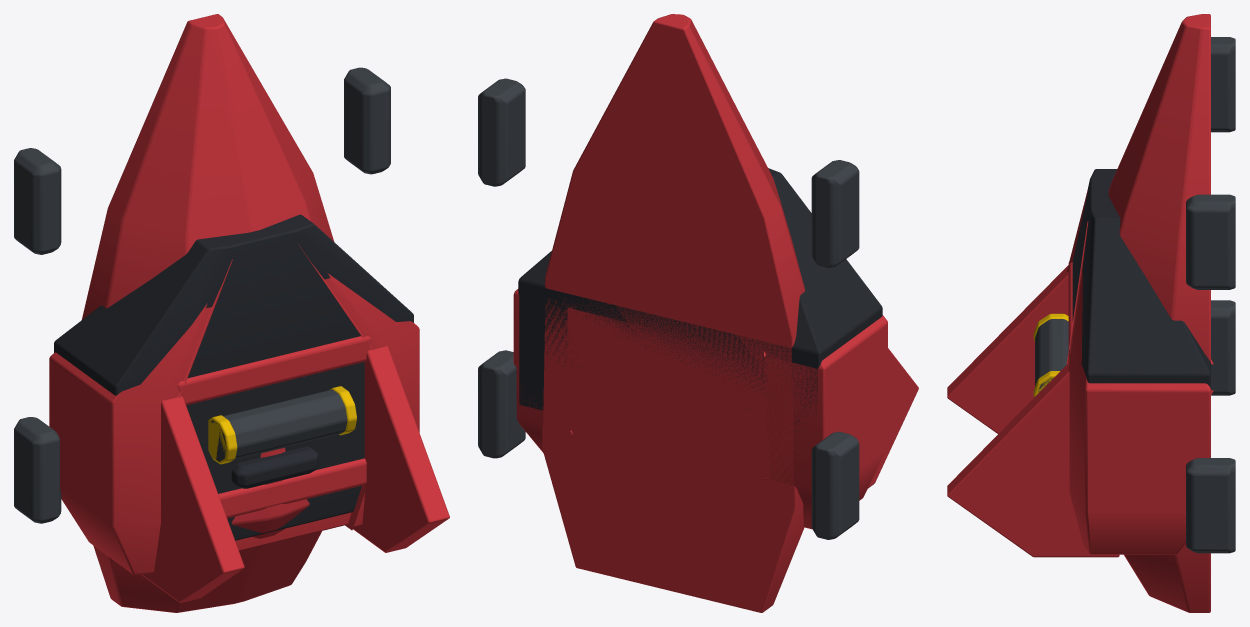
Rendered from CalfBack_Set02_Bastion.fbx.
The picture shows the model from 3 angles, left to right: view 1: azimuth 30°, elevation 25°; view 2: azimuth 150°, elevation 25°; view 3: azimuth 270°, elevation 25°; orthographic projection. The views are drawn at different scales.
Visible parts, largest first — view 1: CalfBack_Set02_Bastion; view 2: CalfBack_Set02_Bastion; view 3: CalfBack_Set02_Bastion.
Boxes of the visible parts, x1,y1,x2,y2 form: CalfBack_Set02_Bastion: [14, 14, 449, 612]; CalfBack_Set02_Bastion: [478, 14, 918, 612]; CalfBack_Set02_Bastion: [947, 14, 1235, 612].
Bounding box in the file's own units: 0.49 × 0.73 × 0.3481.
